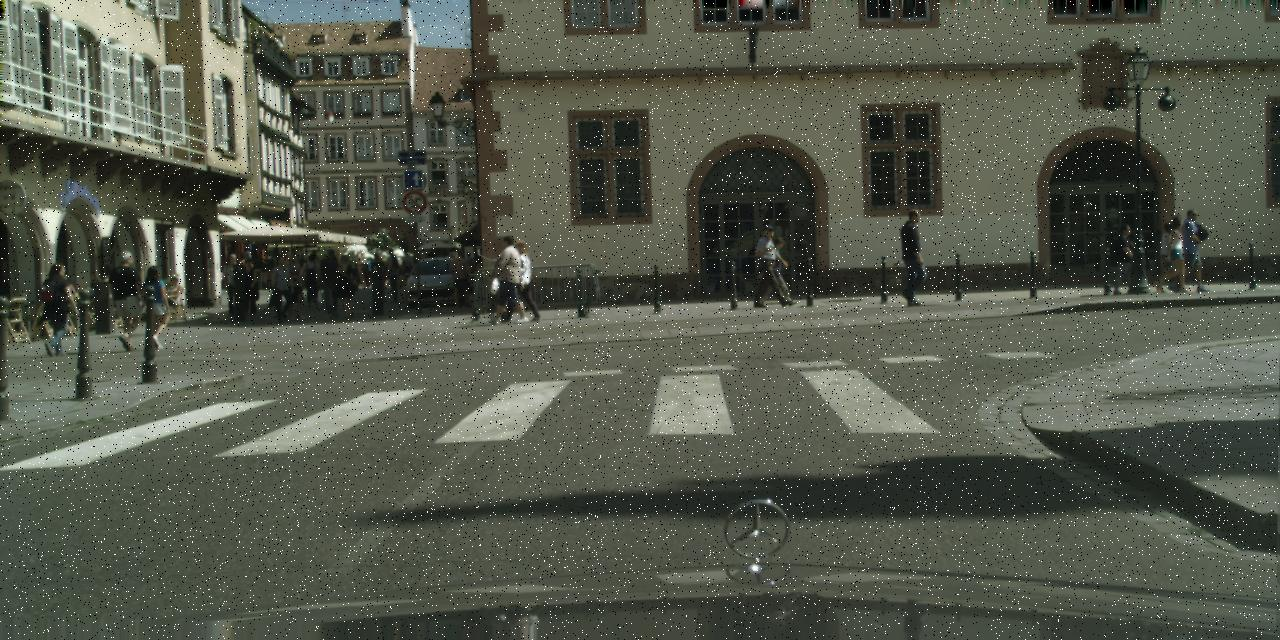ped: (109, 250, 149, 350), (894, 208, 933, 304), (38, 262, 75, 354), (490, 235, 526, 323), (754, 225, 788, 307), (504, 240, 537, 322), (1175, 208, 1208, 290), (139, 267, 171, 347), (1160, 215, 1191, 291), (1155, 221, 1183, 291), (763, 237, 791, 306), (1112, 224, 1140, 293), (318, 249, 346, 316), (268, 256, 295, 320), (282, 254, 308, 319), (334, 254, 359, 317), (221, 253, 245, 314), (450, 249, 472, 306), (237, 258, 259, 314), (382, 248, 403, 302), (302, 253, 322, 304), (369, 253, 388, 301), (462, 253, 474, 283), (474, 262, 484, 284)
